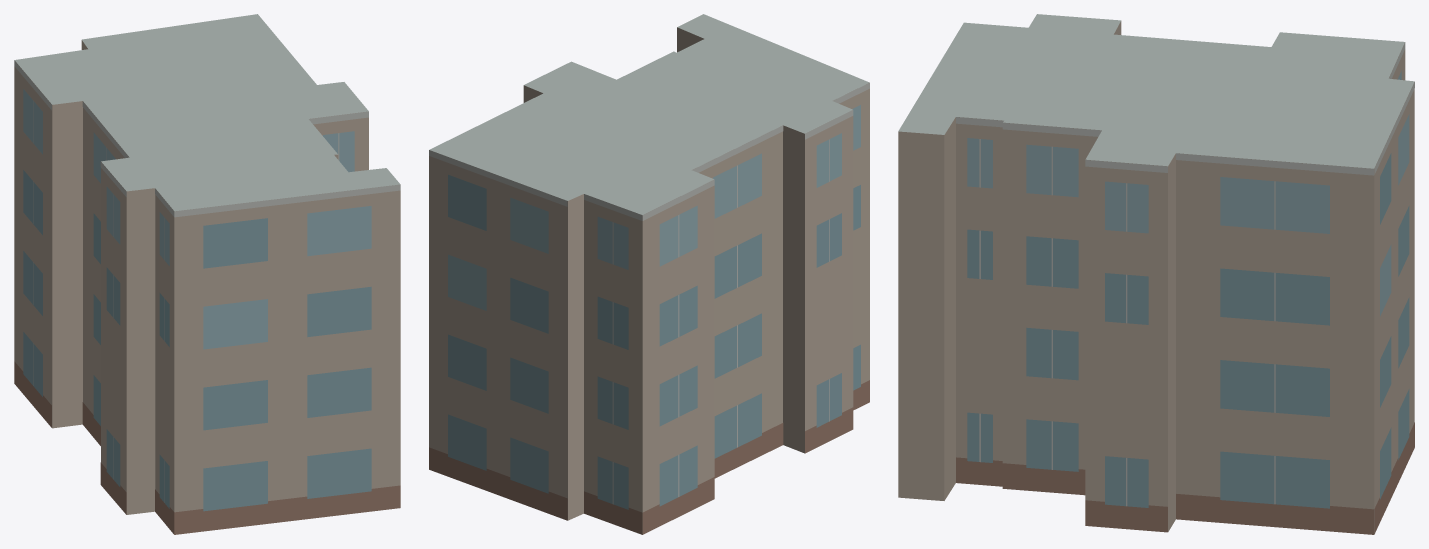
Rendered from survey-upis-32685619.glb.
3 renders of one model, left to right at view 1: azimuth 30°, elevation 25°; view 2: azimuth 150°, elevation 25°; view 3: azimuth 270°, elevation 25°, orthographic. The views are drawn at different scales.
Visible parts, largest first — view 1: survey-upis-32685619.tmp; view 2: survey-upis-32685619.tmp; view 3: survey-upis-32685619.tmp.
Part boxes in pixels (left/top/right/bottom): survey-upis-32685619.tmp: left=14, top=14, right=400, bottom=534; survey-upis-32685619.tmp: left=429, top=14, right=869, bottom=534; survey-upis-32685619.tmp: left=898, top=14, right=1414, bottom=534.
Size of the model in its own units: 11.79 by 13 by 16.63.
